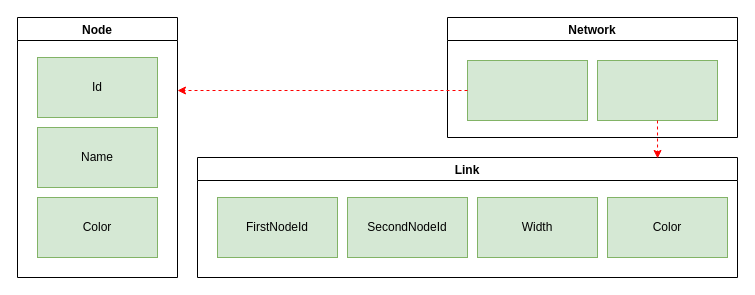
Some shapes in this 755 by 295 pixel diagram are drawn without their labels. The centre of each missing label's shape, as x and y in pixels:
"Links" belongs at [657,90].
"Nodes" belongs at [527,90].
